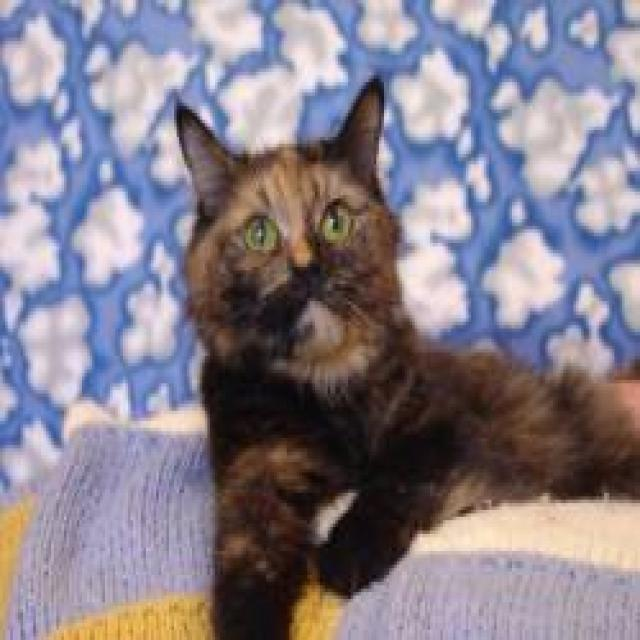cat: (172, 72, 638, 636)
